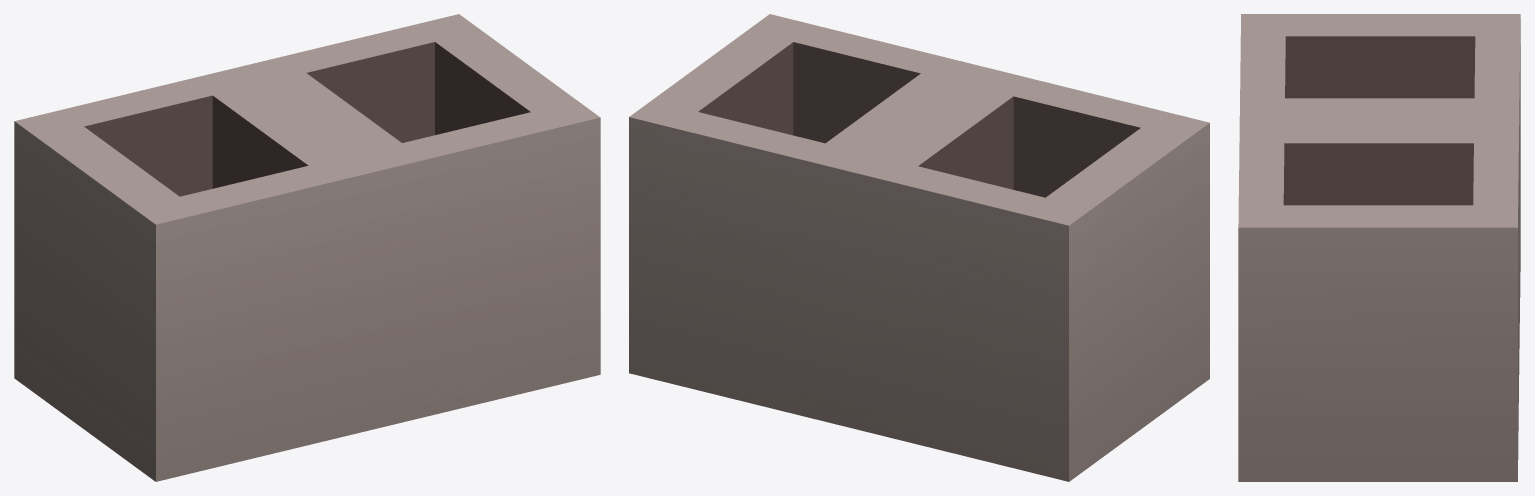
Rendered from SM_ConcreteDebris_02.fbx.
3 renders of one model, left to right at view 1: azimuth 30°, elevation 25°; view 2: azimuth 150°, elevation 25°; view 3: azimuth 270°, elevation 25°, orthographic.
Visible parts, largest first — view 1: SM_ConcreteDebris_02; view 2: SM_ConcreteDebris_02; view 3: SM_ConcreteDebris_02.
Boxes of the visible parts, box(x1,y1,x2,y2) form: SM_ConcreteDebris_02: box(14, 14, 600, 481); SM_ConcreteDebris_02: box(629, 14, 1209, 481); SM_ConcreteDebris_02: box(1238, 14, 1520, 481).
Size of the model in its own units: 0.4369 by 0.2423 by 0.2437.
